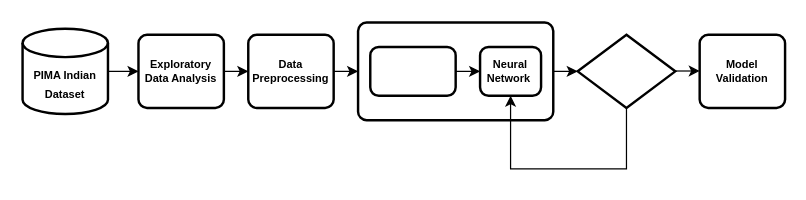
The diagram is 806 pixels wide and 200 high, and some of its shapes have lost their labels. Each missing label, with the centre of its shape:
"Best Outcome" goes at point 626,71.
"Supervised Classification" goes at point 412,70.
